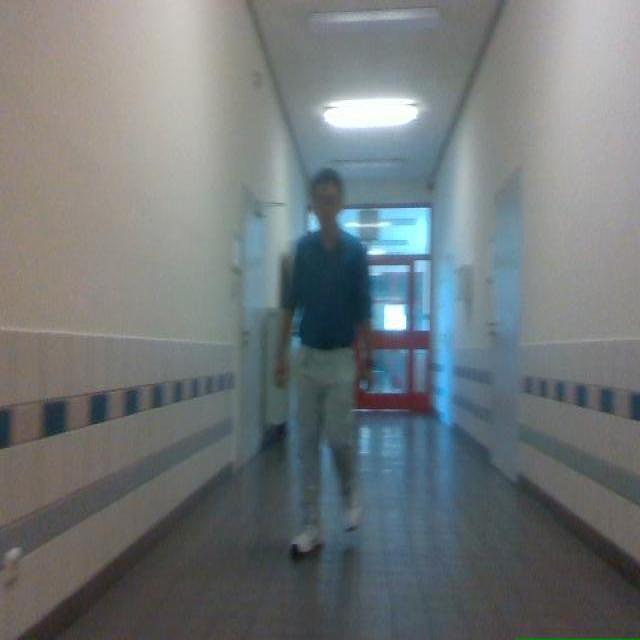humans: (277, 169, 371, 555)
